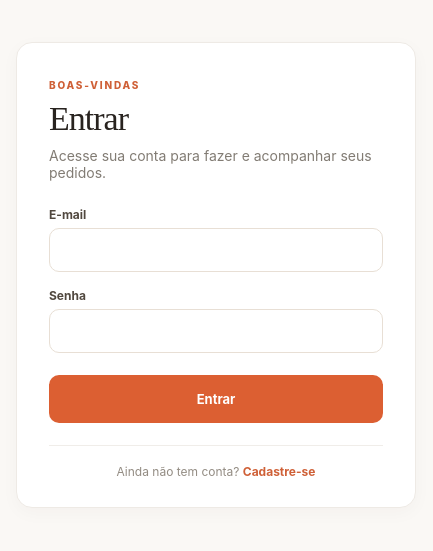
Login › senha vazia bloqueia o envio
Step 1. Type "cliente@email.com" into the field labelled "E-mail" → [216, 250], box left=49, top=228, right=383, bottom=272
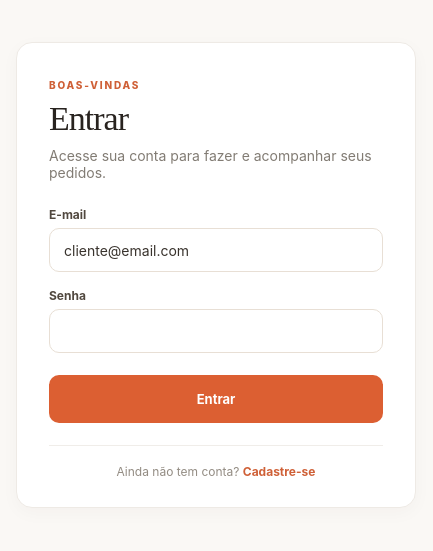
Step 2. Click the button "Entrar" → [216, 399], box left=49, top=375, right=383, bottom=423
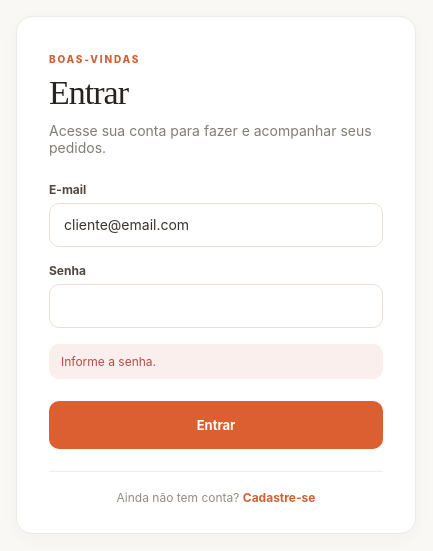
Now the message reads "Informe a senha.", box left=61, top=354, right=156, bottom=369
